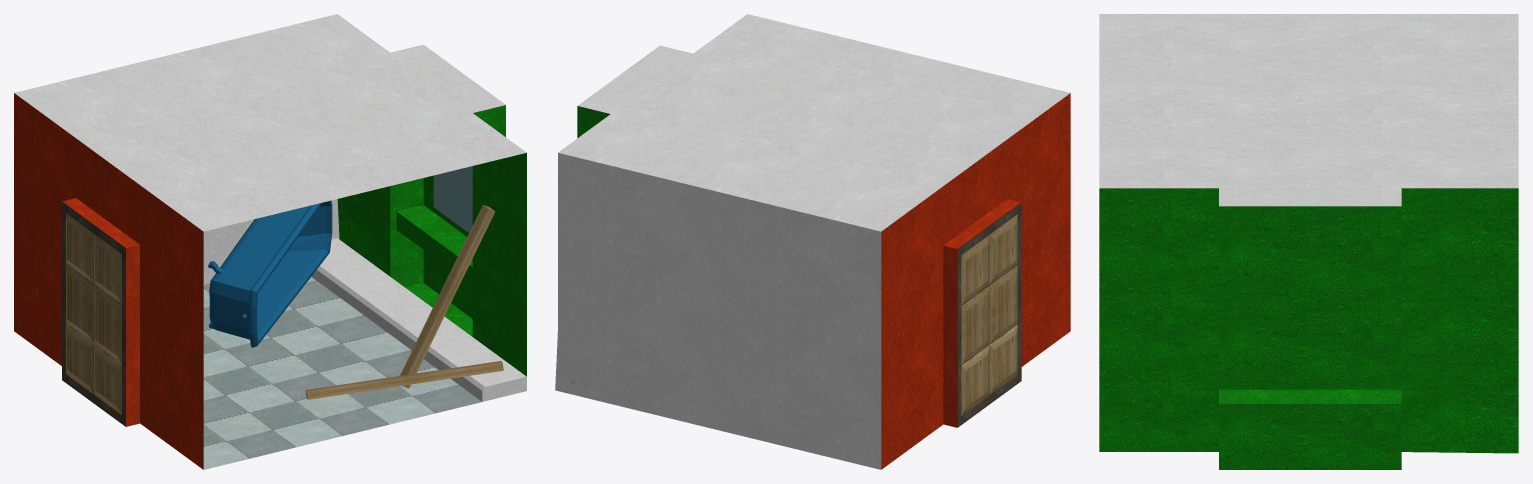
File: koupelna3.obj
3 views of the same model, side by side, from view 1: azimuth 30°, elevation 25°; view 2: azimuth 150°, elevation 25°; view 3: azimuth 270°, elevation 25° (orthographic). The views are drawn at different scales.
Visible parts, largest first — view 1: Box01_zed, Box01_stena_cervena, Box01_podlaha, Box01_stena_zelena, bathtub_vana, Box01_drevo, Box02_drevo, Box01_drevotmave, Box03_drevo, Box04_zrcadlo; view 2: Box01_zed, Box01_stena_cervena, Box01_drevo, Box01_drevotmave, Box01_stena_zelena; view 3: Box01_stena_zelena, Box01_zed.
Part boxes in pixels (x1,y1,x2,y2): Box01_zed: [14, 14, 526, 401]; Box01_stena_cervena: [14, 93, 203, 469]; Box01_podlaha: [203, 277, 481, 469]; Box01_stena_zelena: [337, 105, 526, 376]; bathtub_vana: [208, 200, 332, 347]; Box01_drevo: [66, 213, 121, 414]; Box02_drevo: [400, 205, 495, 388]; Box01_drevotmave: [62, 201, 125, 426]; Box03_drevo: [305, 361, 503, 399]; Box04_zrcadlo: [433, 166, 472, 232]; Box01_zed: [555, 14, 1070, 469]; Box01_stena_cervena: [881, 93, 1070, 469]; Box01_drevo: [961, 214, 1017, 415]; Box01_drevotmave: [957, 202, 1021, 427]; Box01_stena_zelena: [577, 106, 610, 137]; Box01_stena_zelena: [1099, 188, 1518, 469]; Box01_zed: [1099, 14, 1518, 206].
Bounding box in the file's own units: 6.5 × 3.97 × 5.73.
9 materials, 6 textured.
